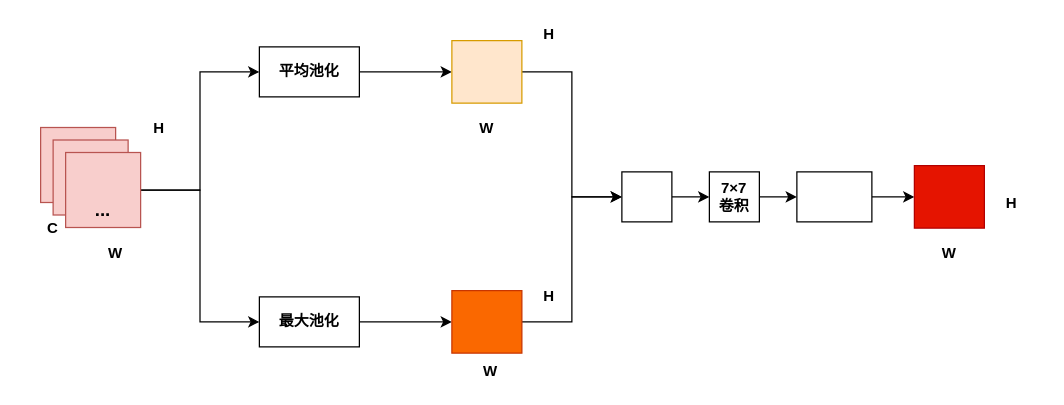
This 1064x405 diagram has some shape labels left out. The shapes that lost their labels are listed below. From the top down, each one's box as (x1, y1, x2, y2) in pixels, then its label:
(621, 171, 672, 222): 级 联
(796, 171, 872, 222): Sigmoid
